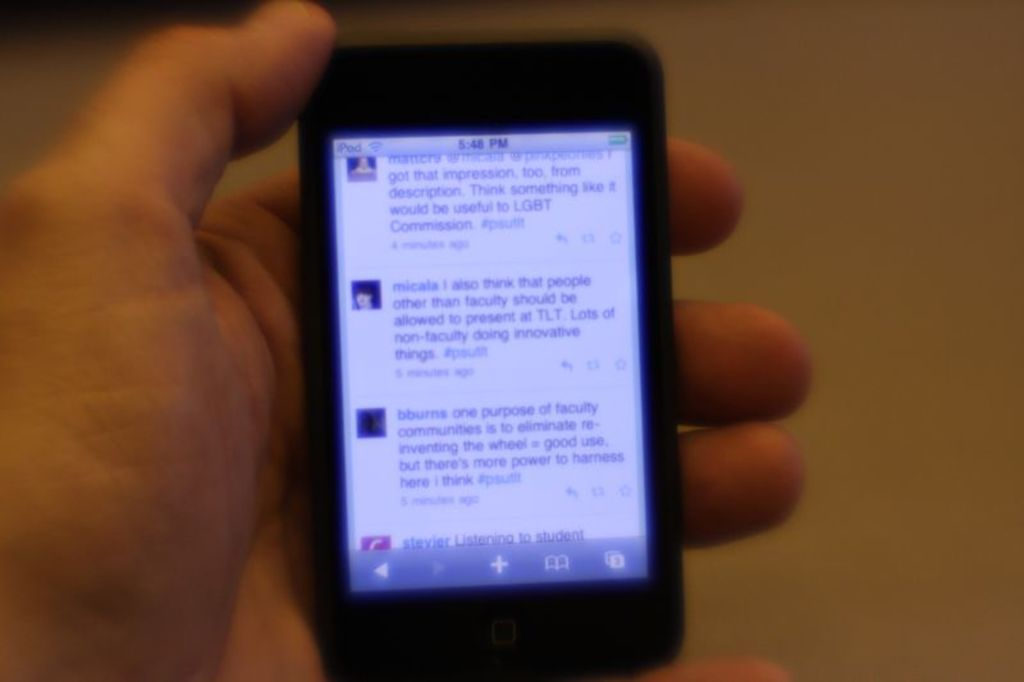Mobile-phone: (301, 22, 701, 674)
